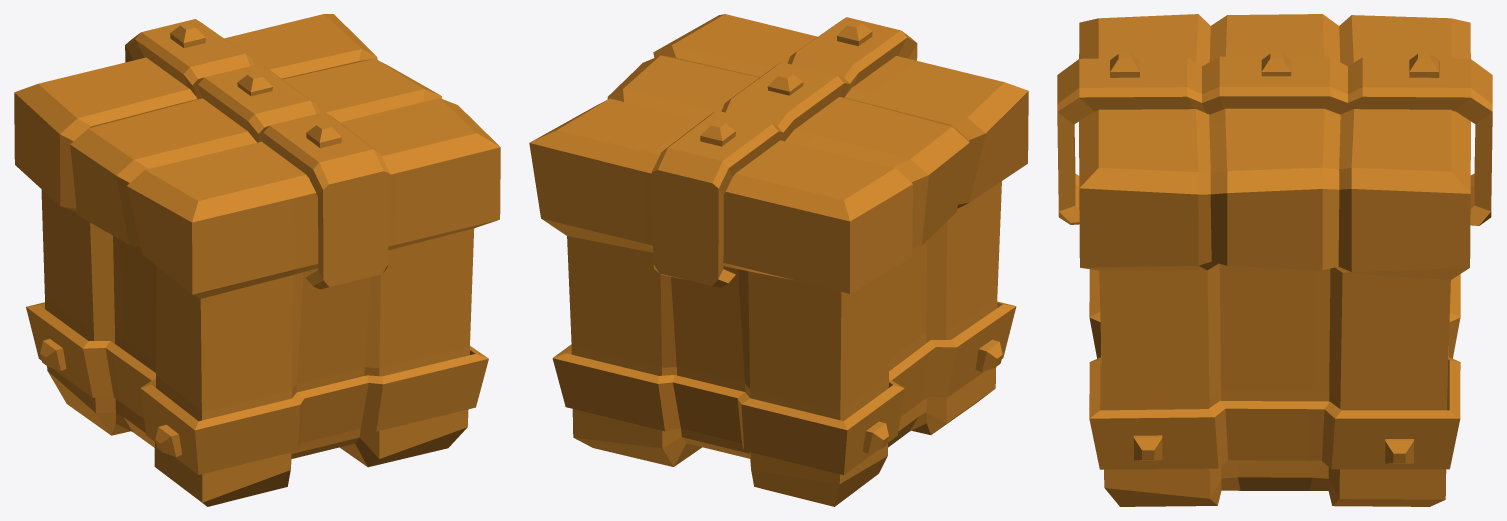
File: L_Ice Box.fbx
3 views of the same model, side by side, from view 1: azimuth 30°, elevation 25°; view 2: azimuth 150°, elevation 25°; view 3: azimuth 270°, elevation 25° (orthographic). The views are drawn at different scales.
Parts seen in each view (by area): view 1: Box.006; view 2: Box.006; view 3: Box.006.
Boxes of the visible parts, <box> form: Box.006: <box>14,14,500,506</box>; Box.006: <box>529,14,1028,506</box>; Box.006: <box>1057,14,1492,506</box>.
Bounding box in the file's own units: 216 × 219 × 223.
